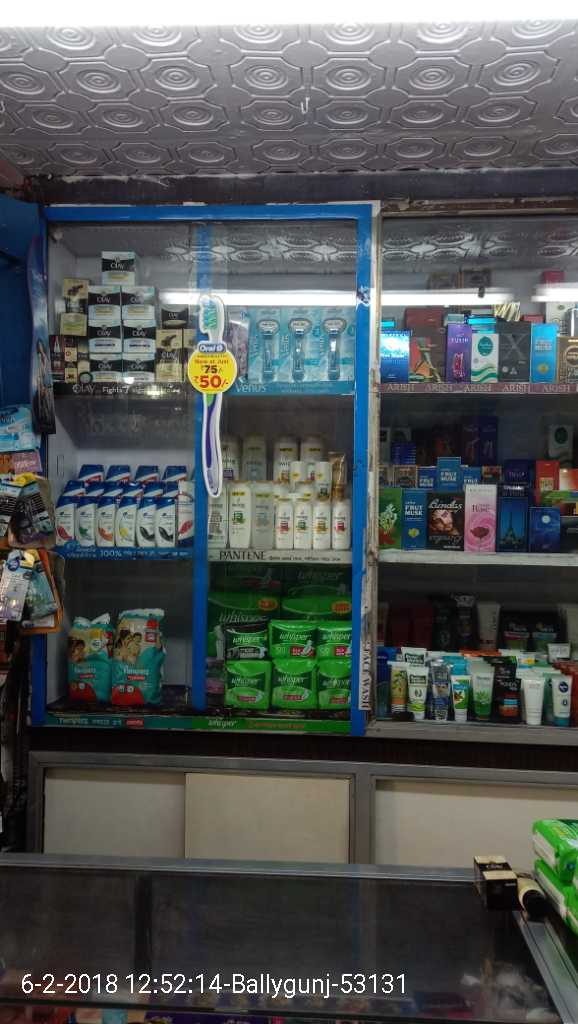ambipureVesus: (14, 473, 53, 547), (1, 549, 32, 623), (36, 556, 60, 621), (1, 474, 13, 532)
venus: (247, 307, 284, 386), (284, 307, 321, 380), (321, 307, 356, 380)
